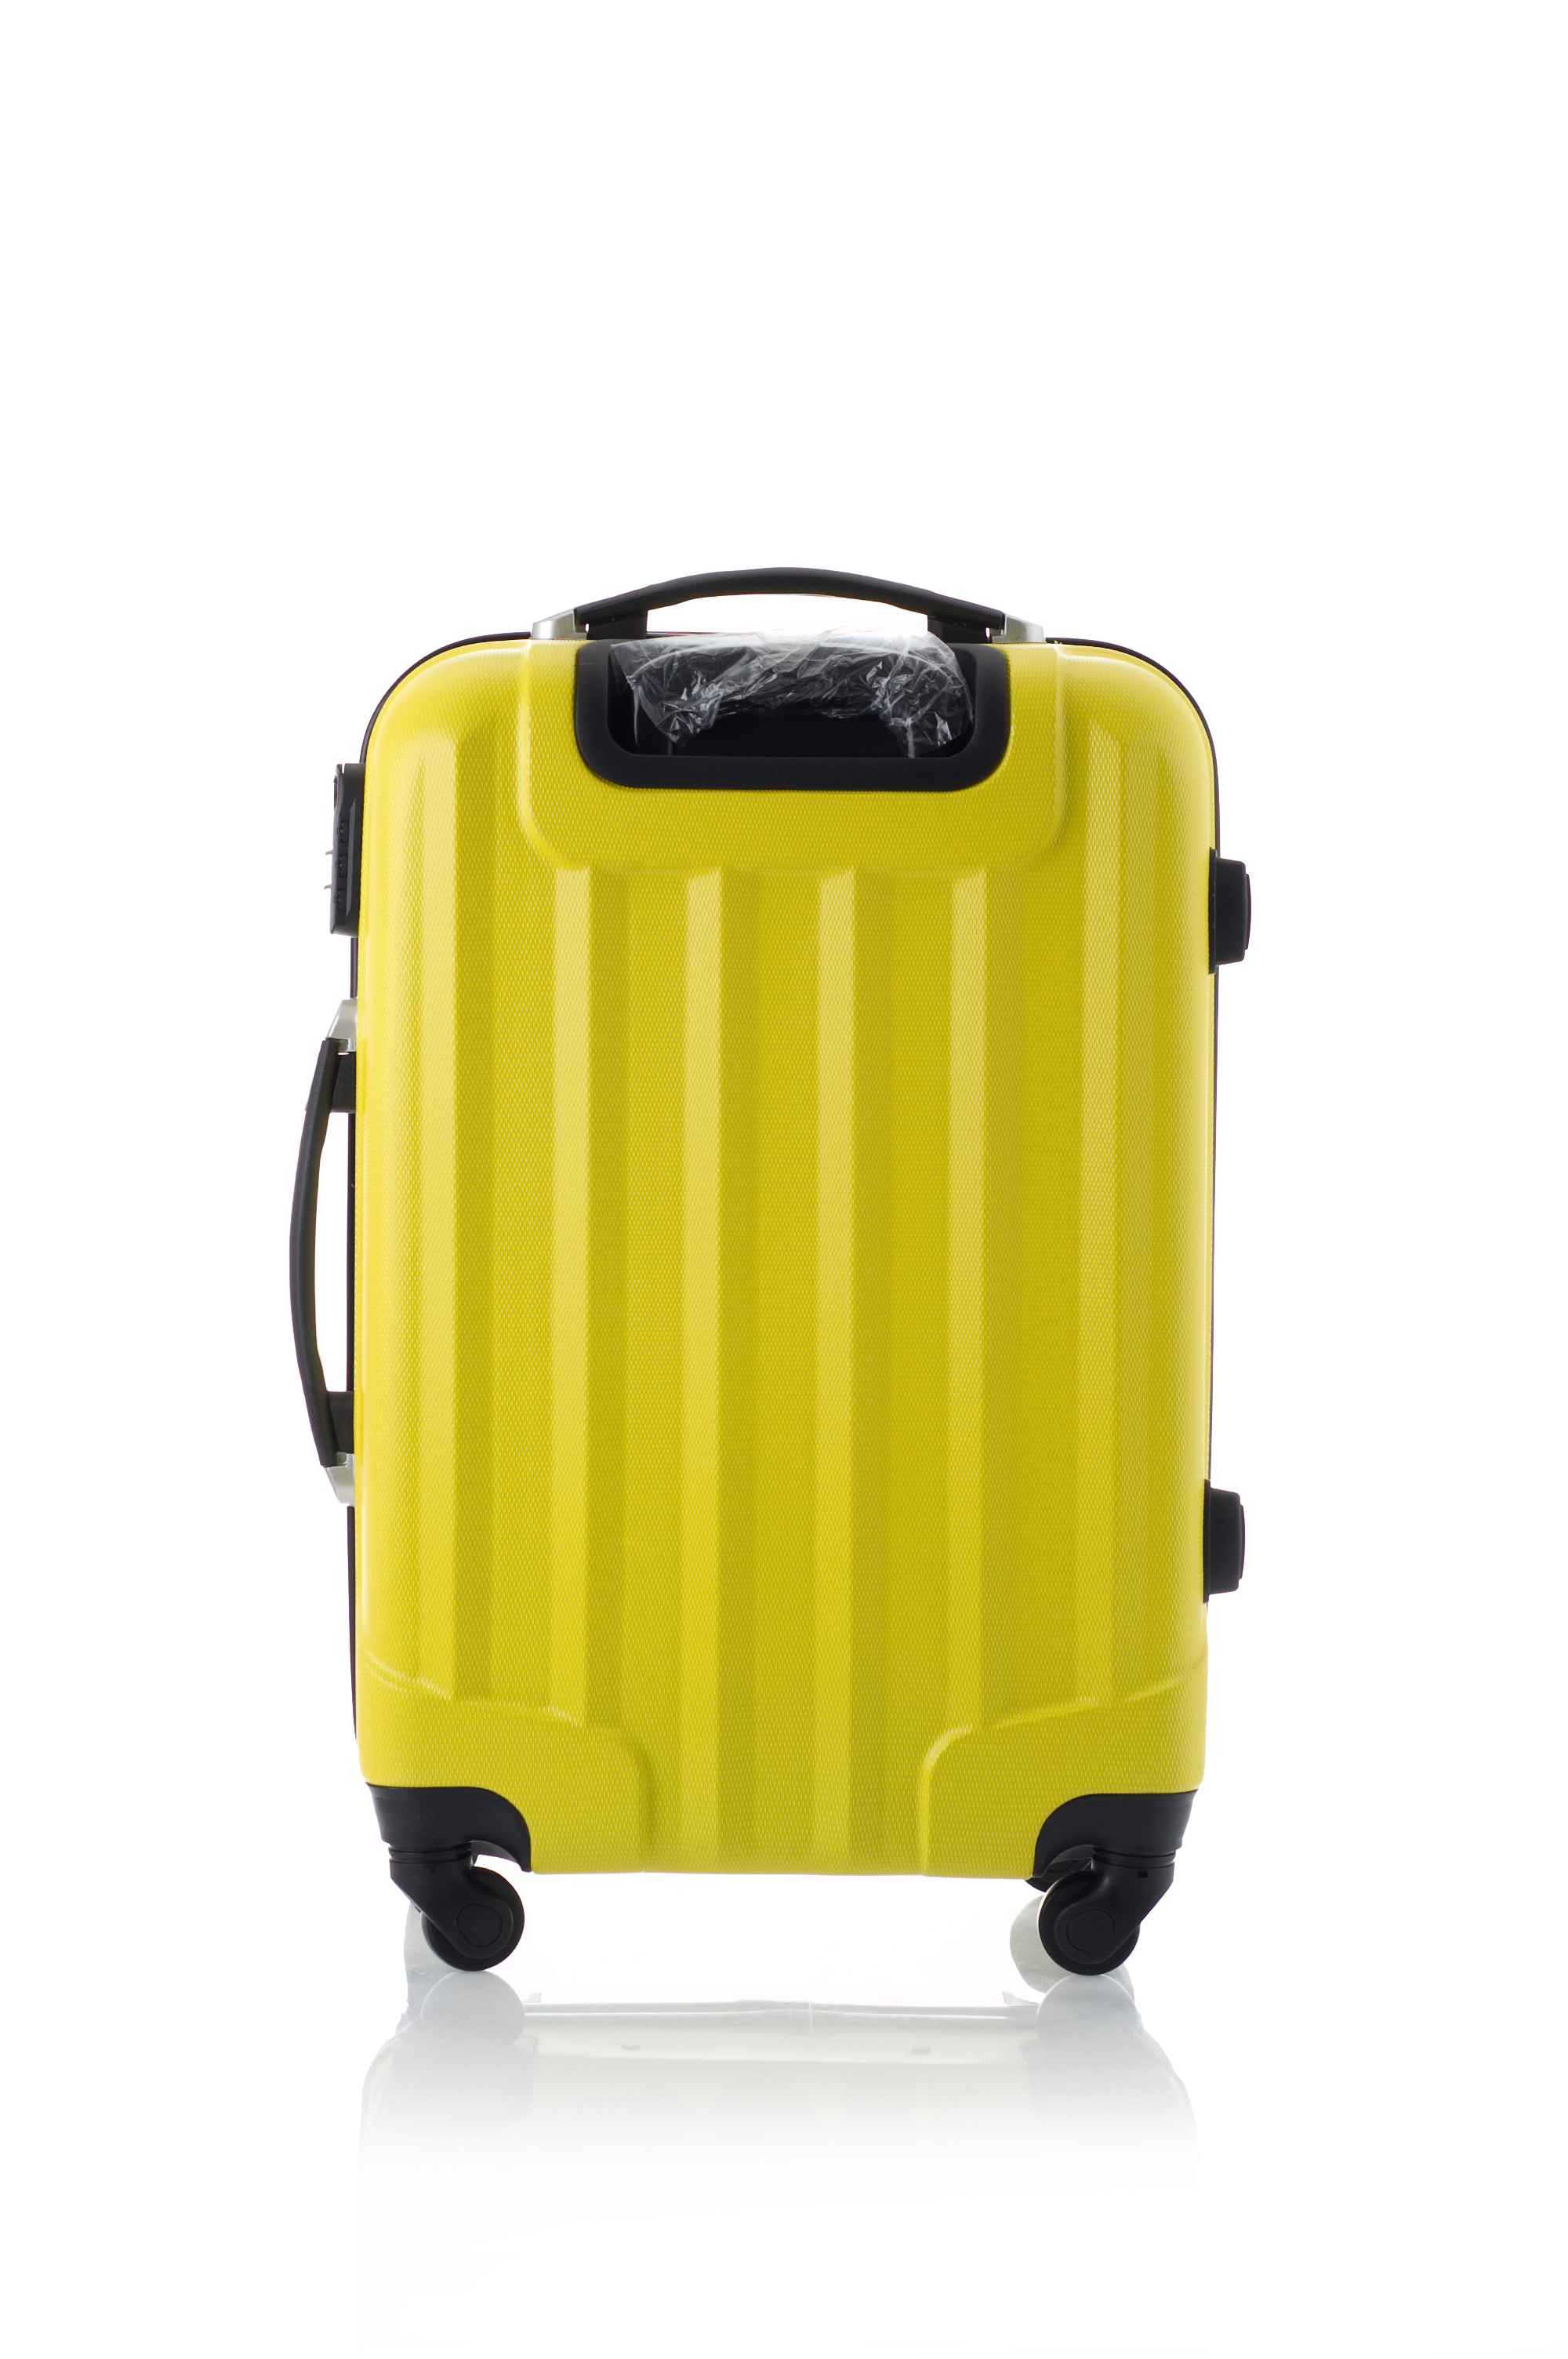luggage: (284, 558, 1258, 1971)
